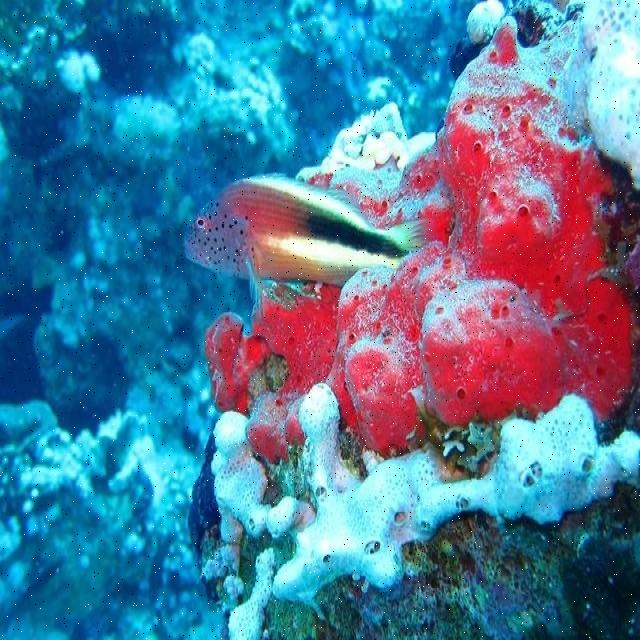fish: (179, 176, 434, 314)
reefs: (206, 0, 640, 639)
